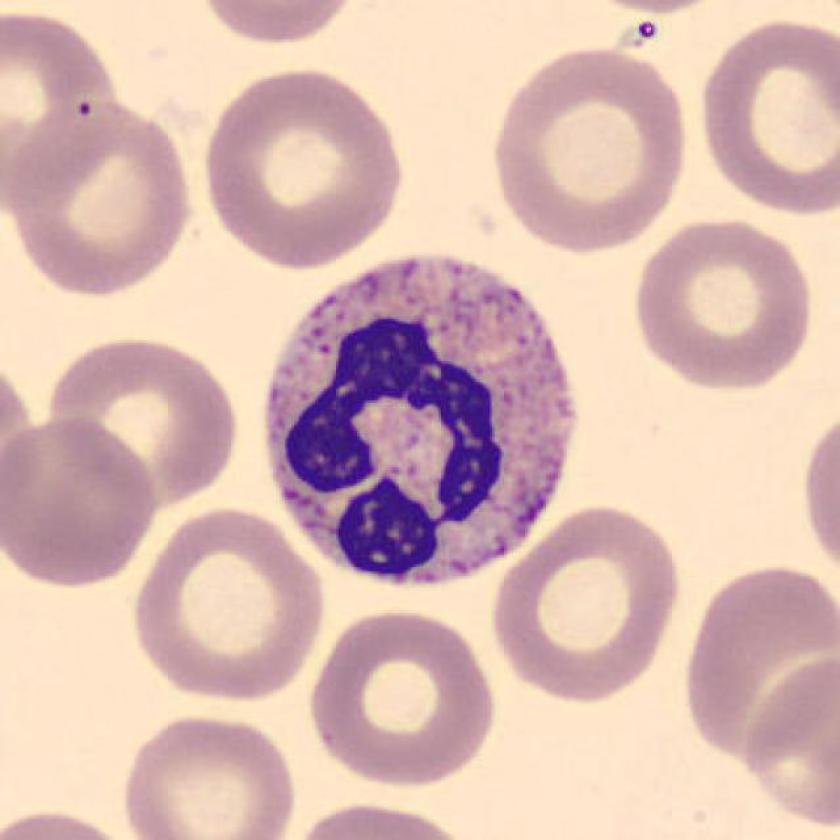neutrophil: (263, 258, 576, 581)
